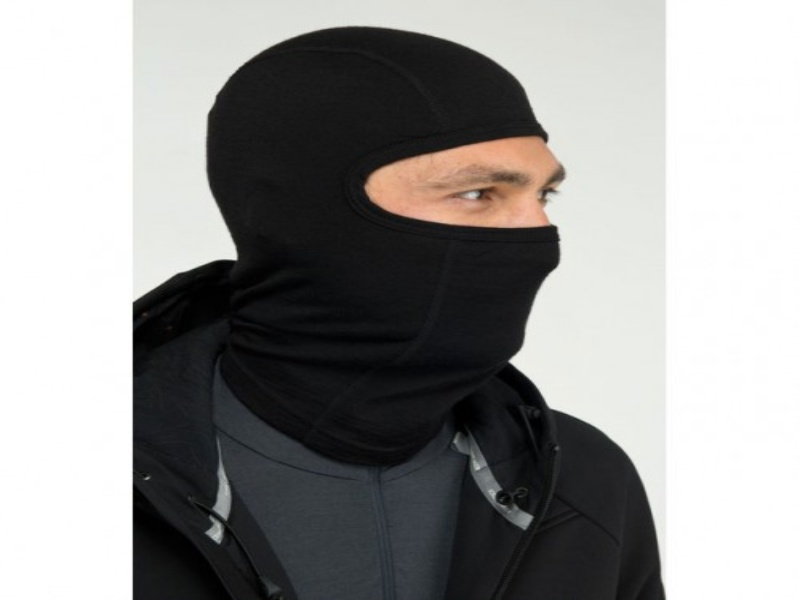balaclava: (205, 25, 568, 410)
person: (132, 29, 666, 600)
